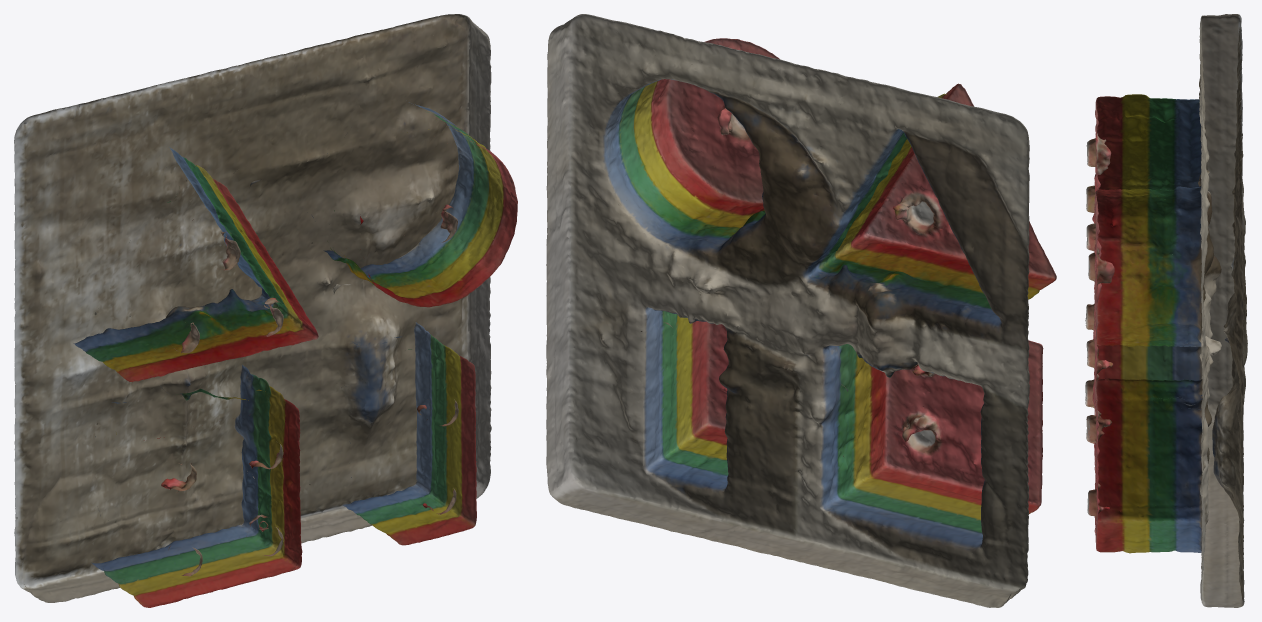
Rendered from sorting_board.glb.
The picture shows the model from 3 angles, left to right: view 1: azimuth 30°, elevation 25°; view 2: azimuth 150°, elevation 25°; view 3: azimuth 270°, elevation 25°; orthographic projection. The views are drawn at different scales.
Bounding box in the file's own units: 1 × 0.9924 × 0.3523.
